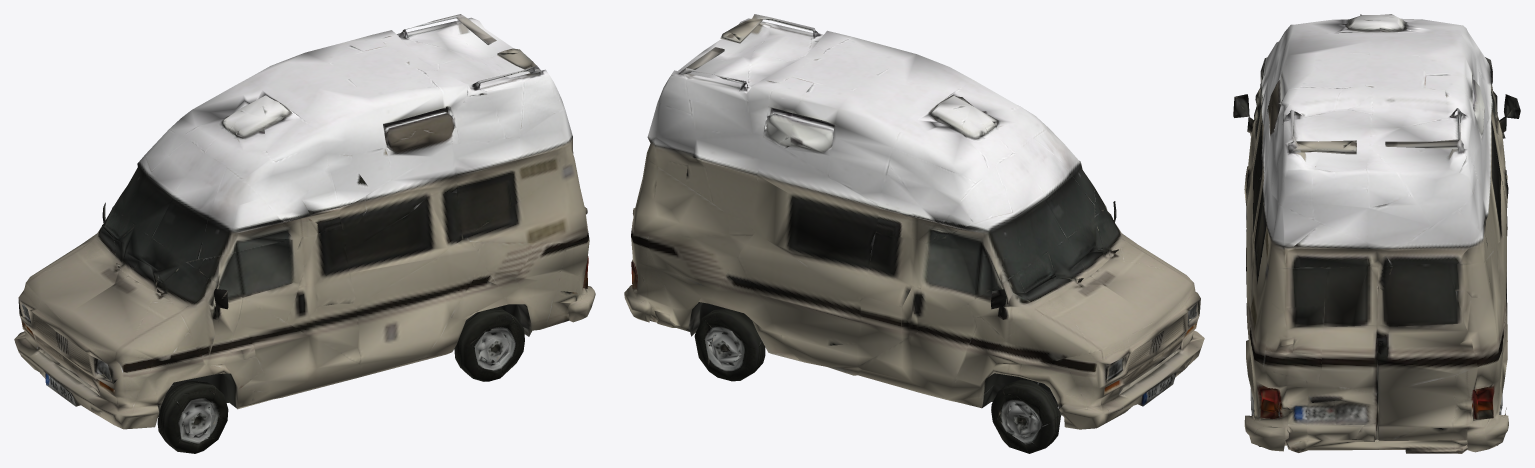
The model's file is hymer.glb.
The picture shows the model from 3 angles, left to right: view 1: azimuth 30°, elevation 25°; view 2: azimuth 150°, elevation 25°; view 3: azimuth 270°, elevation 25°; orthographic projection. The views are drawn at different scales.
Parts seen in each view (by area): view 1: Mesh_0.001; view 2: Mesh_0.001; view 3: Mesh_0.001.
Part boxes in pixels (x1,y1,x2,y2): Mesh_0.001: (14,14,595,453); Mesh_0.001: (624,14,1204,453); Mesh_0.001: (1233,14,1520,453).
Bounding box in the file's own units: 4.42 × 2.5 × 1.93.
1 material, 1 textured.
